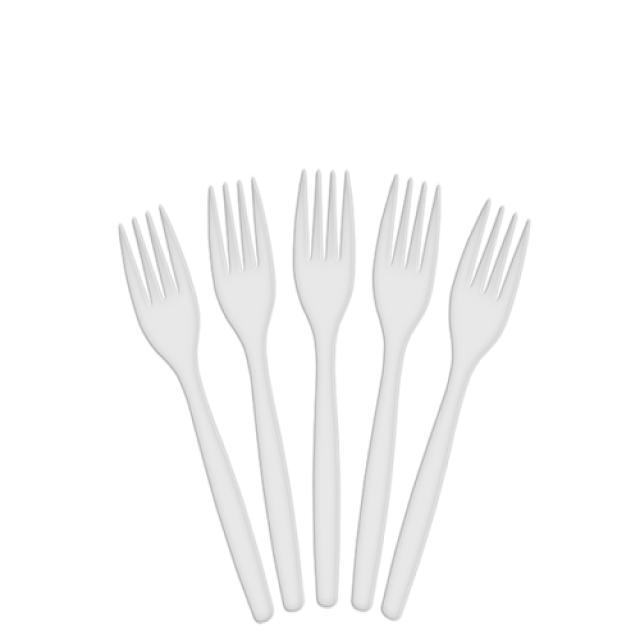spoon: (209, 179, 304, 611), (351, 176, 439, 610)
